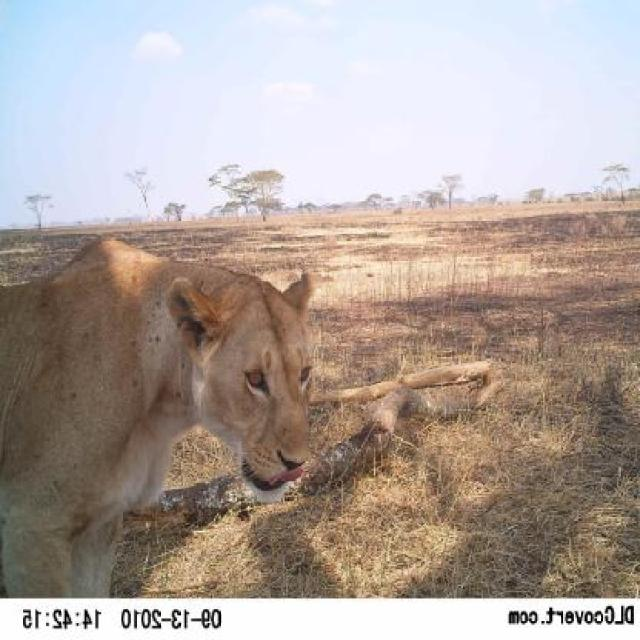Lion: (0, 227, 335, 595)
